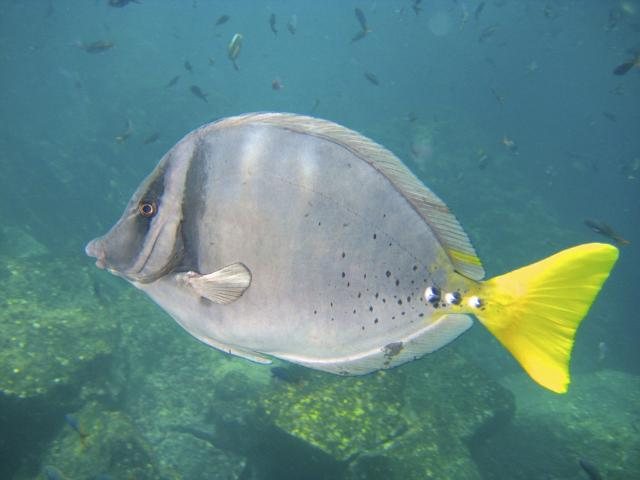Mulut: (59, 221, 122, 301)
Sirip Anal: (283, 302, 479, 382)
Sirip Dada: (168, 250, 268, 322)
Sirip Ekor: (470, 230, 622, 402)
Sirip Perut: (182, 327, 284, 380)
Sirip Punggung: (216, 97, 489, 287)
